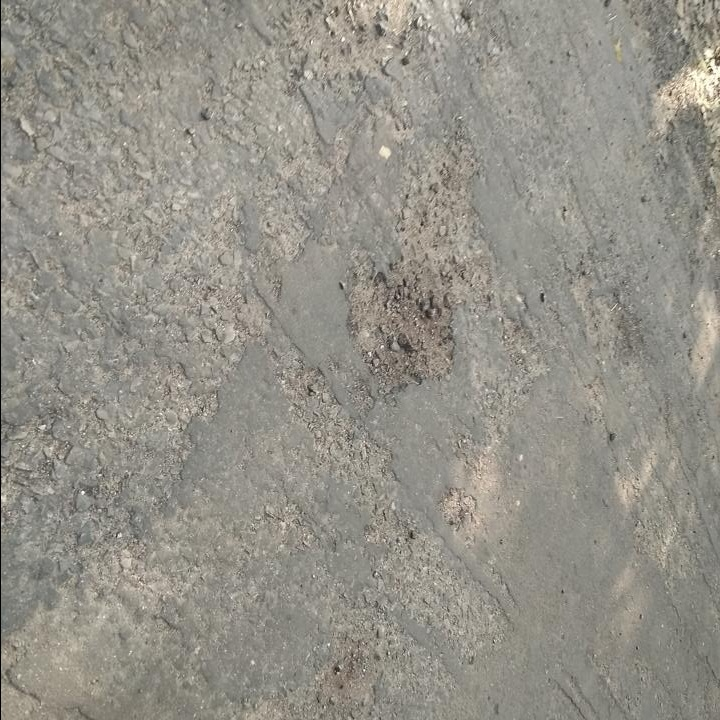pothole: (348, 269, 462, 402)
